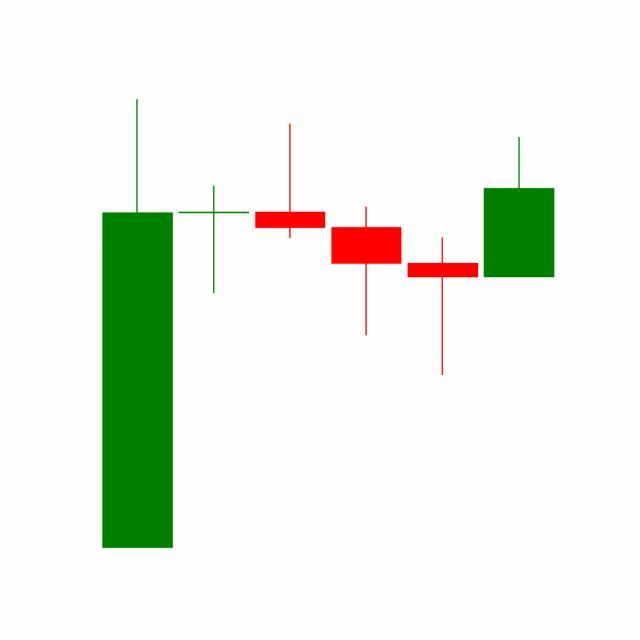Spinning Top: (404, 236, 482, 378)
